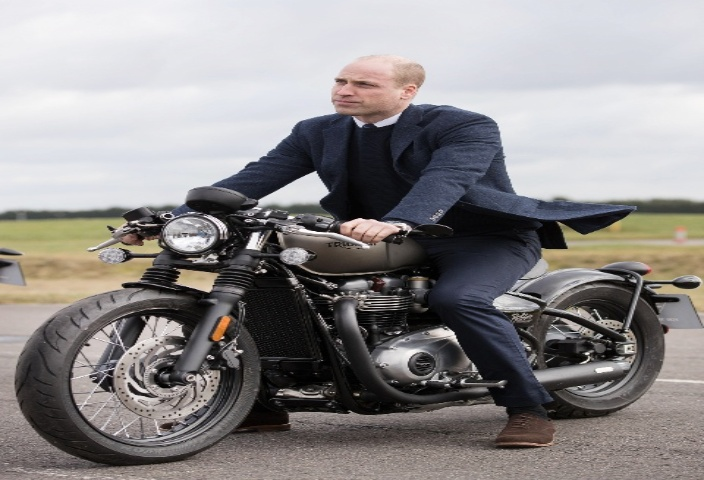motorcycle: (28, 43, 702, 473)
